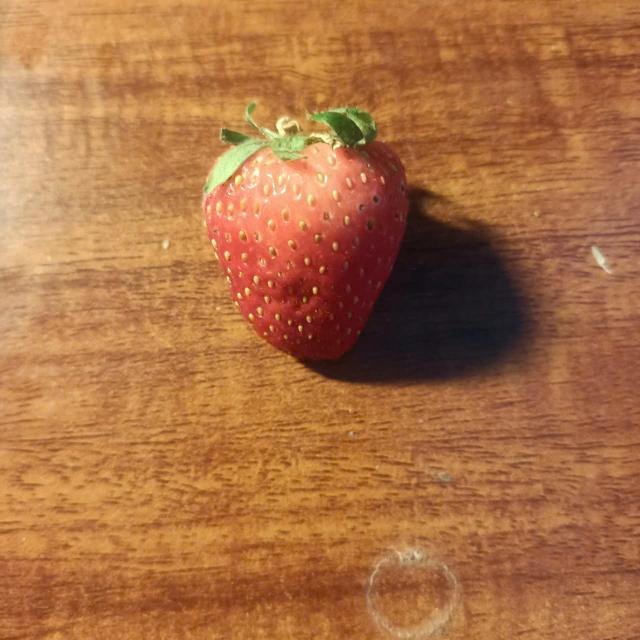DauTay: (195, 118, 413, 367)
